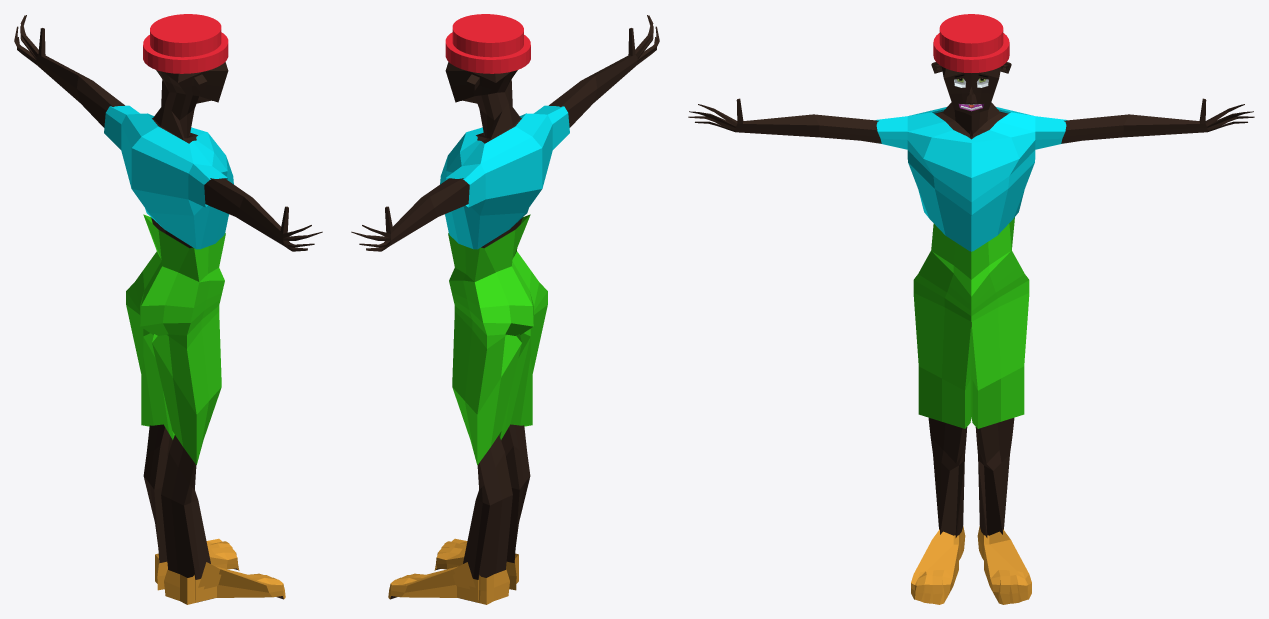
The model's file is Man1.fbx.
3 views of the same model, side by side, from view 1: azimuth 30°, elevation 25°; view 2: azimuth 150°, elevation 25°; view 3: azimuth 270°, elevation 25° (orthographic). The views are drawn at different scales.
Visible parts, largest first — view 1: Cube.005, Cube, Cube.006, Cylinder, Cube.007; view 2: Cube.005, Cube, Cube.006, Cylinder, Cube.007; view 3: Cube.005, Cube, Cube.006, Cube.007, Cylinder.
Boxes of the visible parts, x1,y1,x2,y2 form: Cube.005: (126, 214, 225, 464); Cube: (14, 15, 322, 602); Cube.006: (104, 105, 233, 249); Cylinder: (143, 14, 228, 73); Cube.007: (155, 538, 285, 604); Cube.005: (448, 214, 547, 464); Cube: (351, 15, 659, 602); Cube.006: (440, 105, 569, 249); Cylinder: (445, 14, 530, 73); Cube.007: (388, 538, 518, 604); Cube.005: (913, 217, 1029, 428); Cube: (688, 62, 1254, 537); Cube.006: (876, 107, 1066, 251); Cube.007: (911, 526, 1031, 604); Cylinder: (933, 14, 1009, 72).
Bounding box in the file's own units: 61.33 × 268 × 252.
